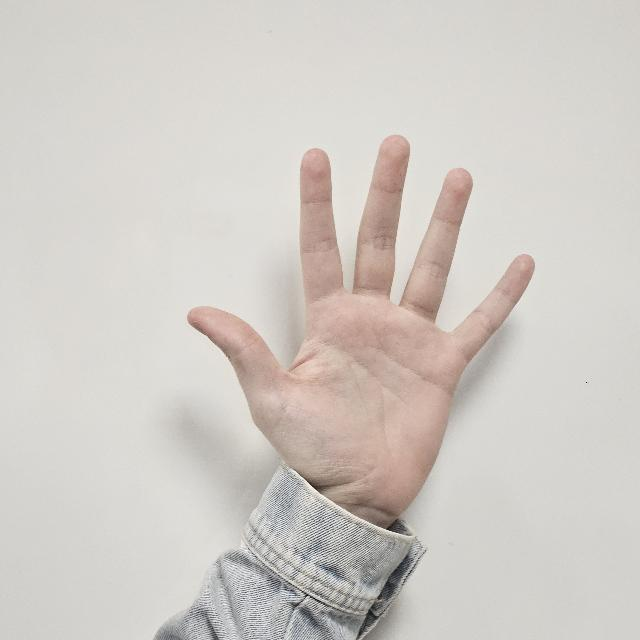X: (186, 134, 534, 556)
